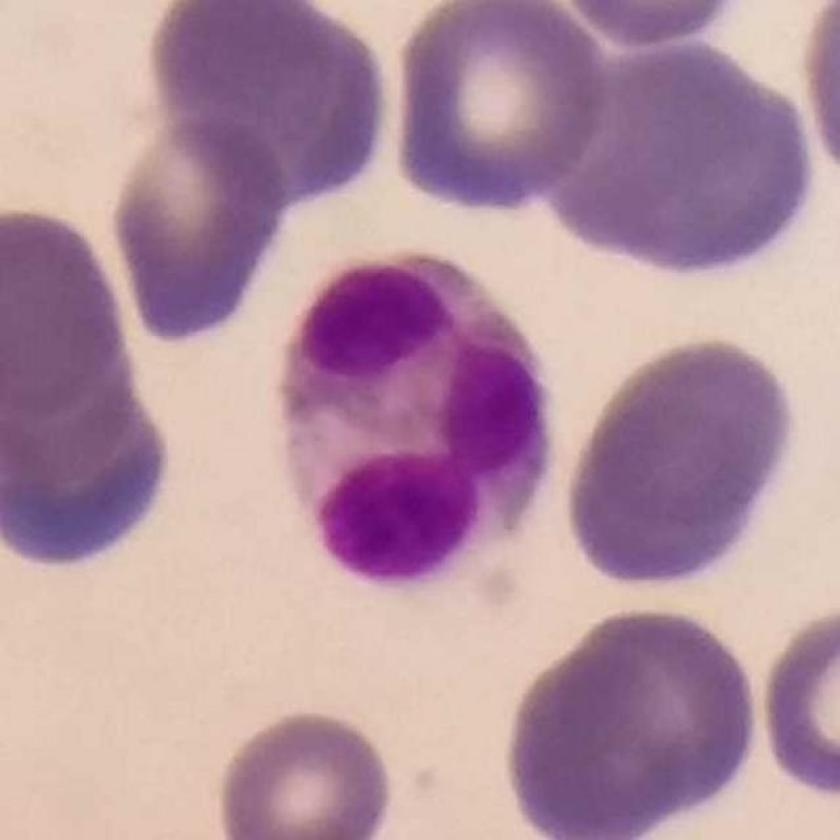eosinophil: (281, 250, 552, 593)
